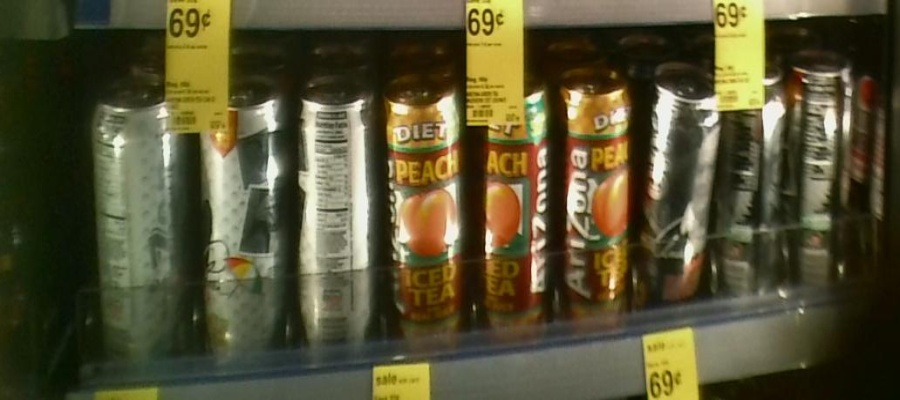bottle: (194, 59, 293, 371), (89, 74, 191, 375), (294, 66, 380, 362), (382, 52, 465, 356), (472, 64, 552, 347), (637, 54, 719, 314), (556, 58, 631, 338), (720, 45, 790, 320), (791, 40, 855, 309)
